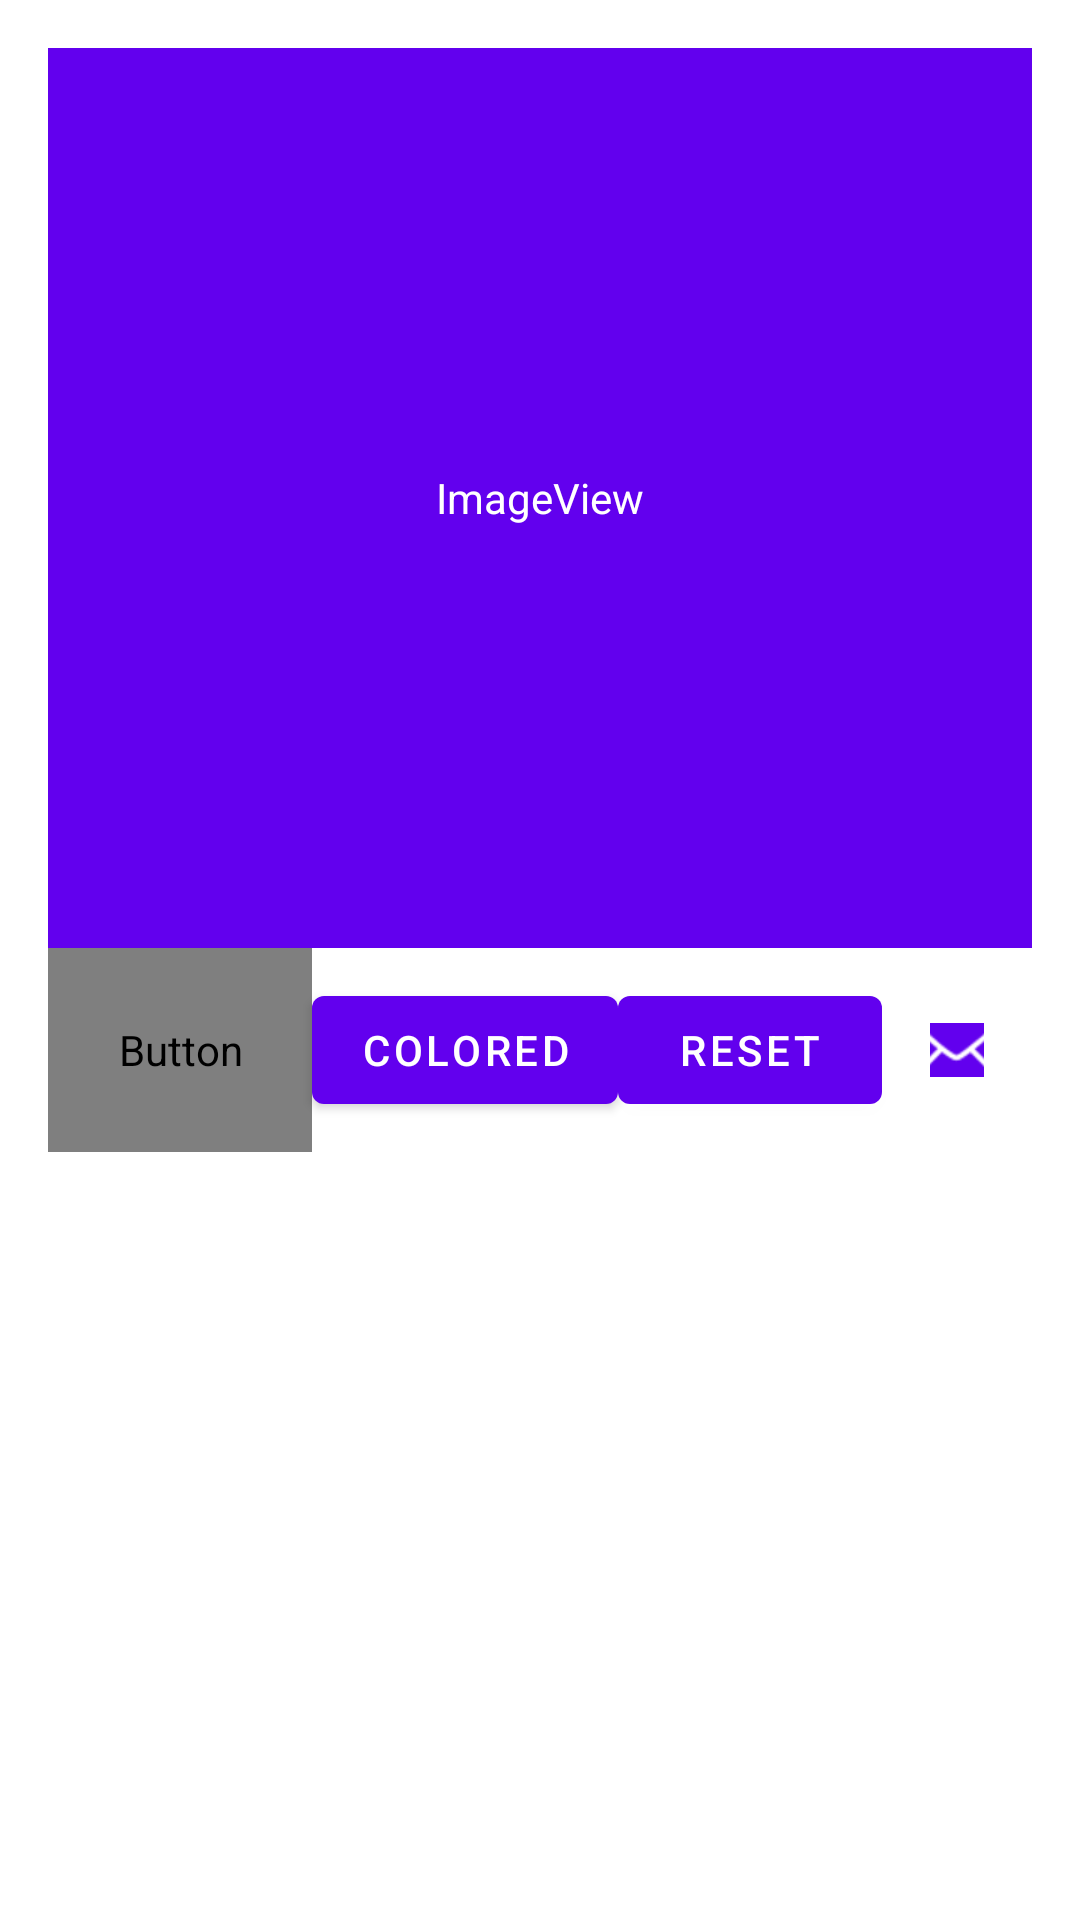

Named icons in this screenshot (1080px×1920px) and their centers, (x,y):
email: (957,1050)
